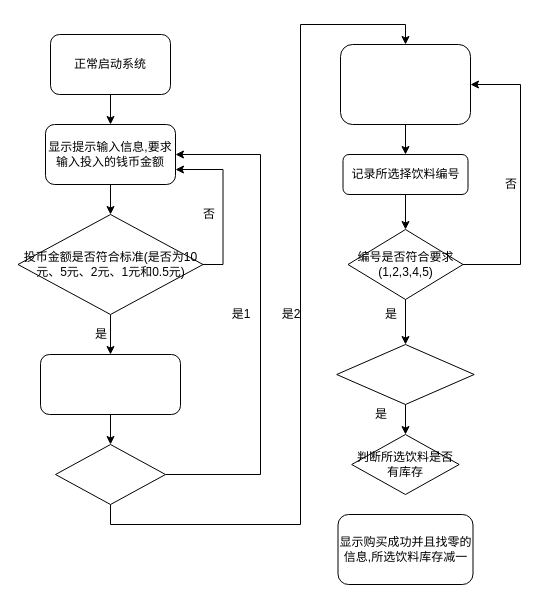
Image size: 549x602. Some labels were removed from this diagram. The shapes that lost their labels are listed below. From the top down, each one's box as (x1, y1, x2, y2) in pixels, then its label:
(340, 44, 470, 124): 显示饮料类型信息、价格以及库存，提示输入饮料编号进行购买
(40, 354, 180, 414): 记录到总金额,并提示继续投币请输入1，购买饮料请输入2
(336, 344, 474, 404): 判断当前金额是否足够
(54, 444, 166, 504): 判断输入
